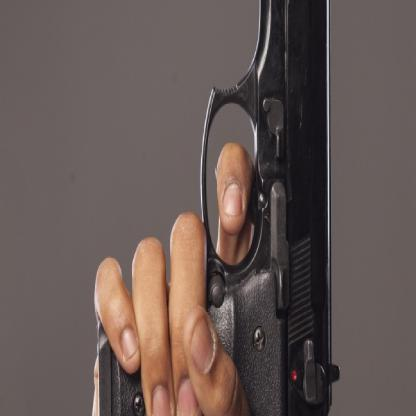gun: (87, 0, 337, 415)
